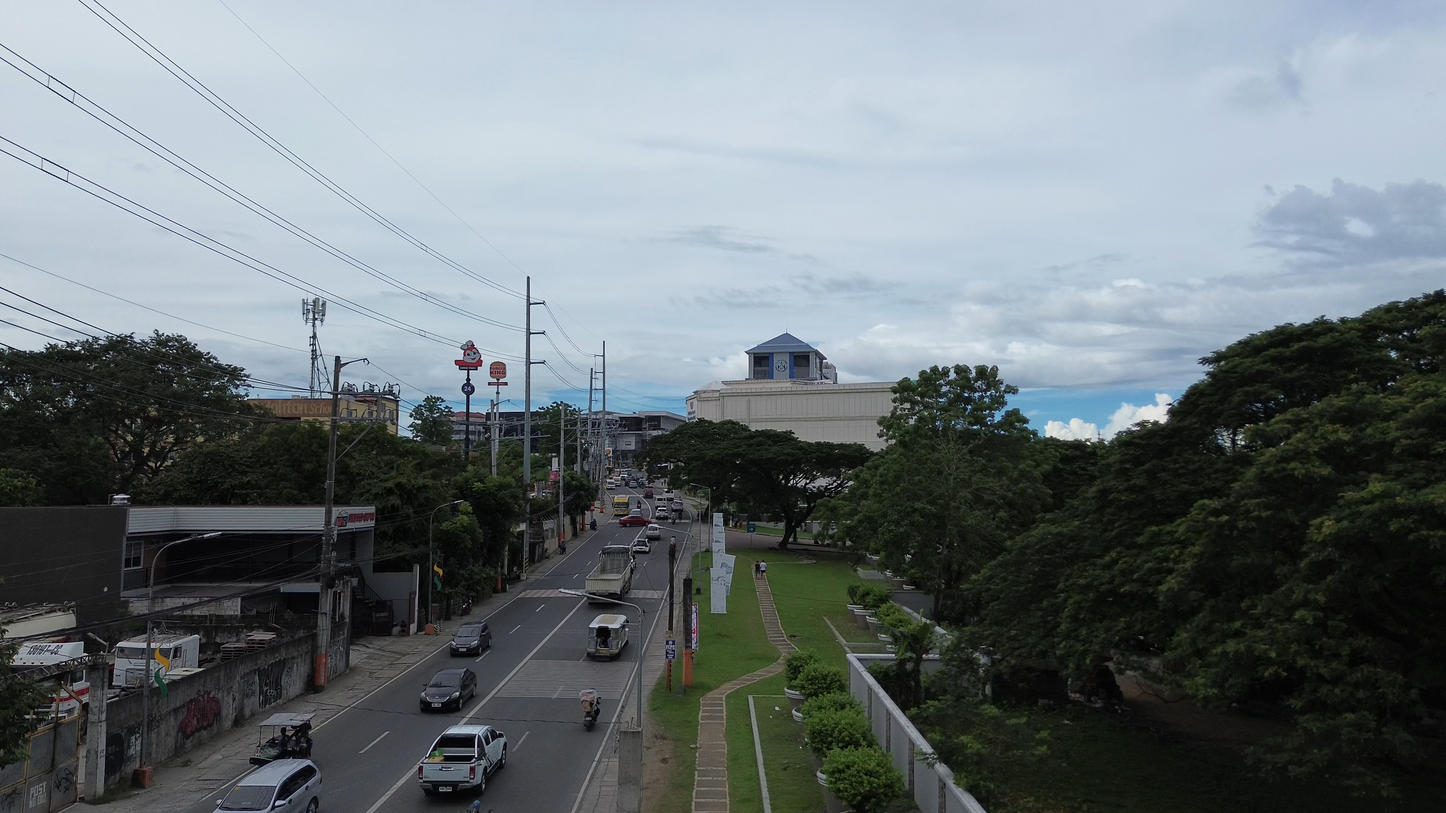car: (618, 514, 650, 527), (644, 524, 662, 540), (654, 507, 671, 521)
vehicle: (418, 725, 506, 795), (11, 641, 89, 718), (216, 758, 322, 813), (112, 633, 198, 686), (250, 712, 314, 765), (585, 545, 633, 598), (420, 668, 477, 711), (587, 614, 627, 658), (449, 623, 491, 655), (580, 688, 601, 730), (618, 513, 650, 527), (631, 535, 651, 553), (613, 496, 630, 516), (653, 507, 672, 522), (668, 498, 683, 515), (606, 478, 617, 490), (643, 487, 654, 498)
